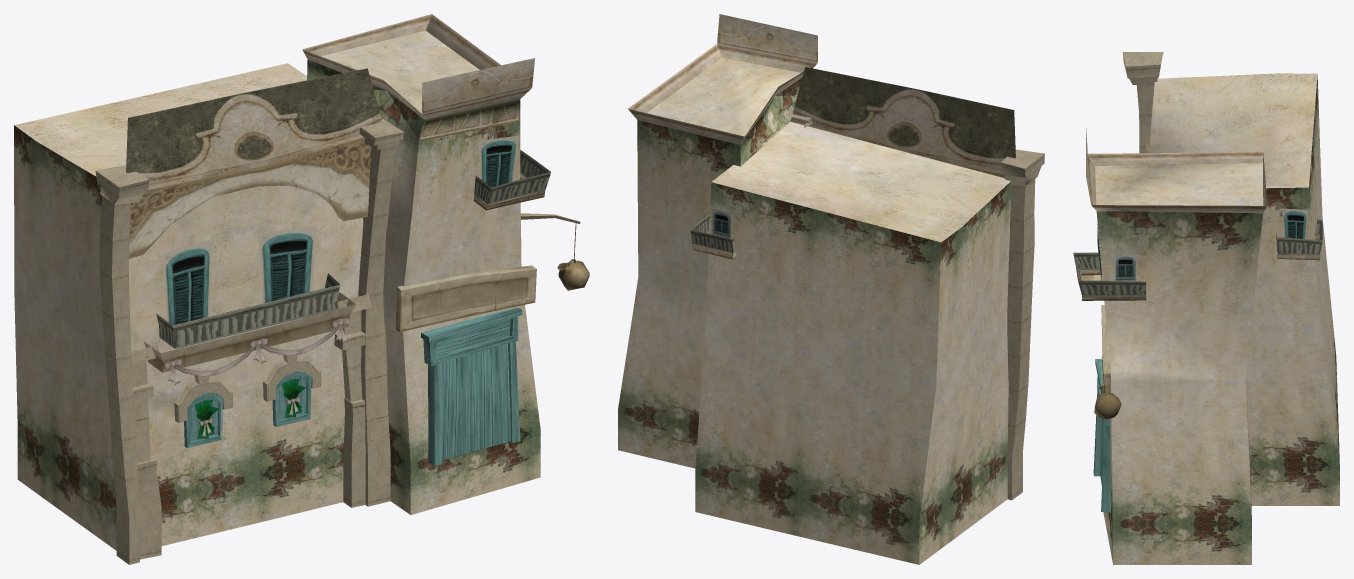
The model's file is spanish_tavern_exterior.fbx.
The picture shows the model from 3 angles, left to right: view 1: azimuth 30°, elevation 25°; view 2: azimuth 150°, elevation 25°; view 3: azimuth 270°, elevation 25°; orthographic projection. The views are drawn at different scales.
Parts seen in each view (by area): view 1: Walls, polySurface409, column4, column5, pPlane1, Railing_02, balcony_base2, Window_03, door_right, Window_02, door_left, FirstFloor36 (+6 smaller); view 2: Walls, polySurface409, column4, pCube26, flat_window3; view 3: Walls, column4, Railing_01, pPlane1, pCube26, flat_door2, Window_01, Pitcher.
Part boxes in pixels (bbox=[...]): Walls: bbox=[14, 14, 545, 550]; polySurface409: bbox=[126, 68, 382, 189]; column4: bbox=[95, 165, 149, 564]; column5: bbox=[358, 119, 404, 506]; pPlane1: bbox=[421, 307, 522, 465]; Railing_02: bbox=[156, 273, 340, 348]; balcony_base2: bbox=[143, 292, 355, 372]; Window_03: bbox=[258, 226, 316, 303]; door_right: bbox=[473, 343, 510, 451]; Window_02: bbox=[162, 239, 212, 325]; door_left: bbox=[441, 354, 473, 460]; FirstFloor36: bbox=[343, 397, 365, 507]; Walls: bbox=[618, 14, 1011, 564]; polySurface409: bbox=[790, 67, 1015, 173]; column4: bbox=[1001, 149, 1044, 500]; pCube26: bbox=[690, 214, 735, 253]; flat_window3: bbox=[712, 208, 731, 238]; Walls: bbox=[1080, 73, 1339, 564]; column4: bbox=[1122, 52, 1163, 153]; Railing_01: bbox=[1073, 252, 1146, 295]; pPlane1: bbox=[1093, 359, 1110, 512]; pCube26: bbox=[1276, 219, 1322, 254]; flat_door2: bbox=[1282, 208, 1308, 239]; Window_01: bbox=[1114, 254, 1136, 281]; Pitcher: bbox=[1094, 385, 1121, 419].
Bounding box in the file's own units: 5028 × 4625 × 2912.
4 materials, 4 textured.
